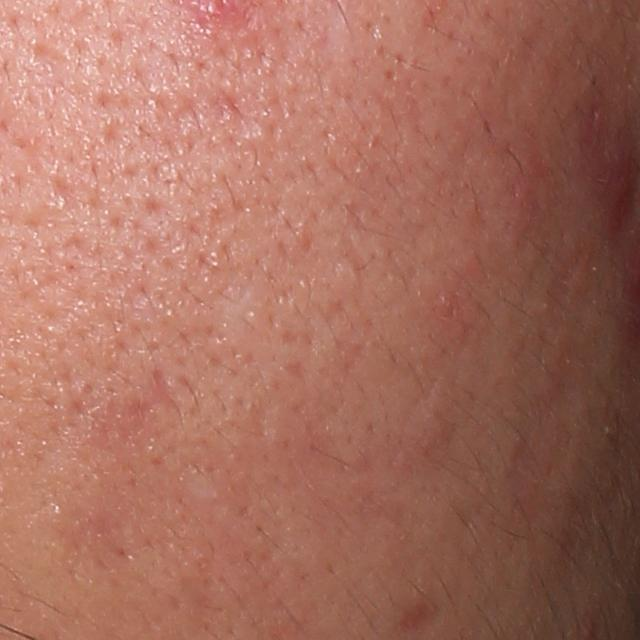atrophic_scar: (99, 367, 187, 443), (36, 400, 95, 482), (208, 276, 273, 344), (24, 38, 71, 71)
